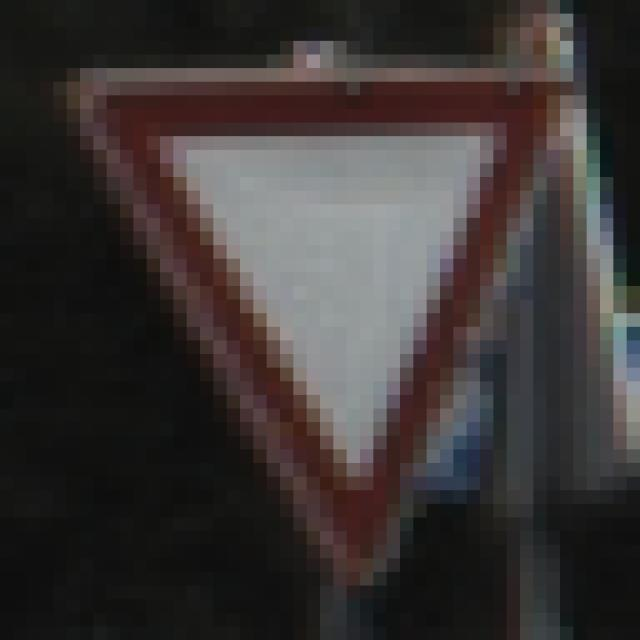Give Way: (68, 69, 561, 573)
